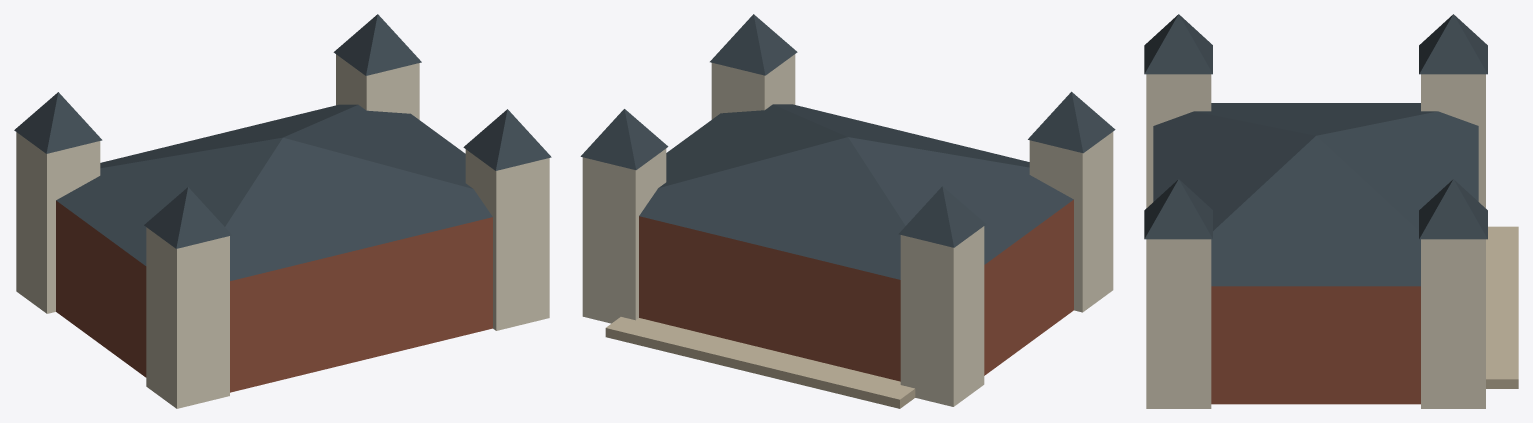
File: d-it-02-castello-valentino.glb
The picture shows the model from 3 angles, left to right: view 1: azimuth 30°, elevation 25°; view 2: azimuth 150°, elevation 25°; view 3: azimuth 270°, elevation 25°; orthographic projection. The views are drawn at different scales.
Parts seen in each view (by area): view 1: part9, part0, part1, part5, part3, part7, part2, part6, part8, part4; view 2: part9, part0, part3, part7, part10, part1, part5, part4, part8, part6, part2; view 3: part9, part0, part5, part7, part10, part1, part3, part4, part8, part2, part6.
Part boxes in pixels (x1,y1,x2,y2): part9: [56, 104, 492, 280]; part0: [56, 200, 492, 392]; part1: [146, 227, 229, 408]; part5: [465, 149, 549, 330]; part3: [16, 132, 100, 313]; part7: [336, 54, 419, 119]; part2: [144, 187, 231, 248]; part6: [463, 109, 551, 170]; part8: [333, 14, 421, 75]; part4: [14, 92, 102, 153]; part9: [639, 104, 1073, 279]; part0: [639, 199, 1073, 381]; part3: [900, 226, 984, 406]; part7: [582, 148, 666, 323]; part10: [605, 317, 915, 408]; part1: [1029, 132, 1113, 312]; part5: [711, 54, 795, 119]; part4: [898, 186, 986, 247]; part8: [580, 109, 668, 169]; part6: [710, 14, 797, 75]; part2: [1028, 91, 1115, 153]; part9: [1153, 103, 1478, 286]; part0: [1211, 286, 1420, 404]; part5: [1146, 239, 1211, 408]; part7: [1421, 239, 1485, 408]; part10: [1486, 226, 1518, 388]; part1: [1146, 74, 1211, 207]; part3: [1421, 74, 1485, 208]; part4: [1419, 14, 1487, 74]; part8: [1419, 179, 1487, 239]; part2: [1144, 14, 1212, 74]; part6: [1144, 179, 1212, 239].
Size of the model in its own units: 63500 by 33000 by 51750.
